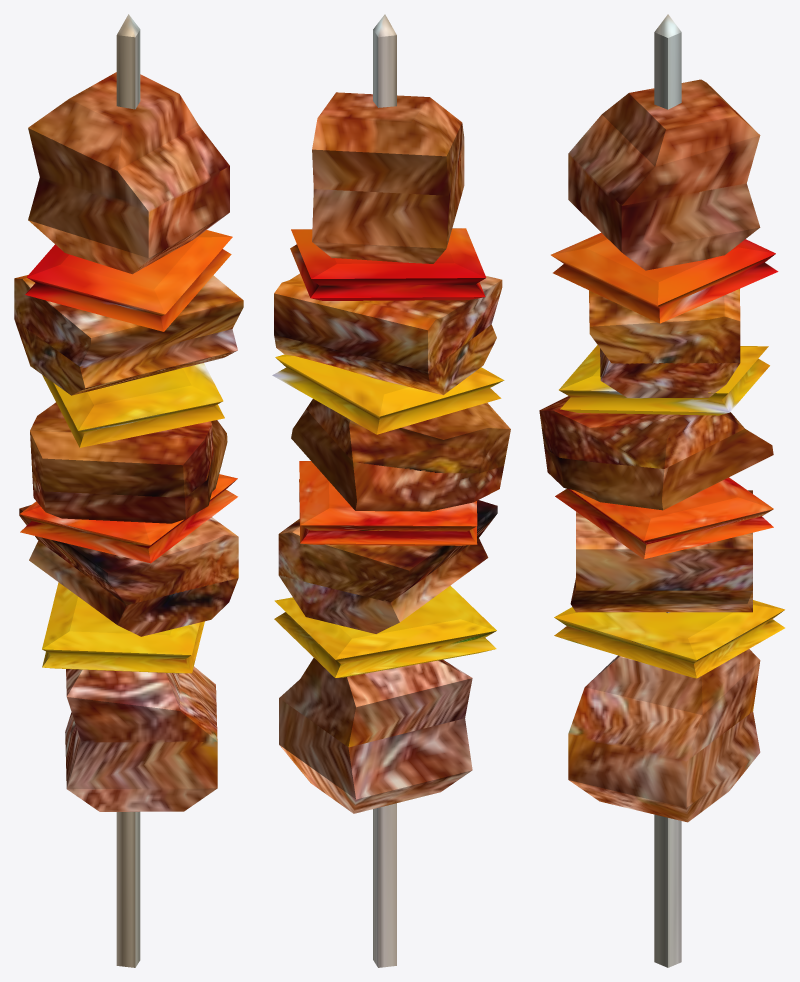
File: Kebab3.fbx
The picture shows the model from 3 angles, left to right: view 1: azimuth 30°, elevation 25°; view 2: azimuth 150°, elevation 25°; view 3: azimuth 270°, elevation 25°; orthographic projection.
Visible parts, largest first — view 1: Kebab; view 2: Kebab; view 3: Kebab.
Boxes of the visible parts, <box> form: Kebab: <box>14,14,243,967</box>; Kebab: <box>272,14,510,967</box>; Kebab: <box>539,14,784,967</box>.
Bounding box in the file's own units: 8.4 × 37.12 × 8.74.
